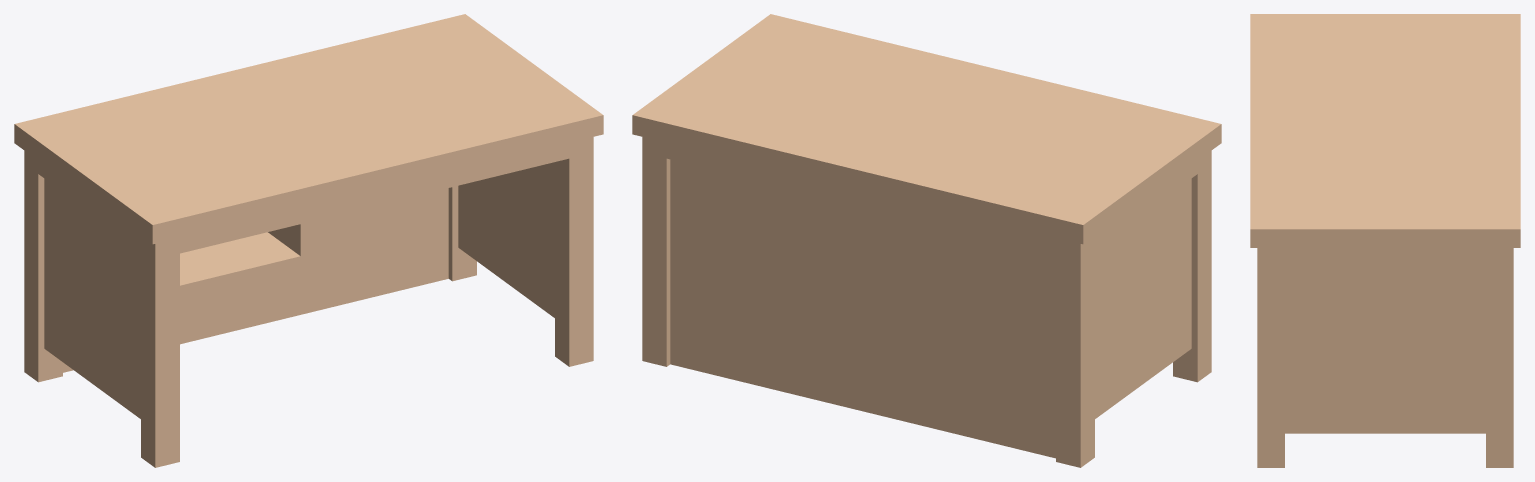
The model's file is desk.glb.
The picture shows the model from 3 angles, left to right: view 1: azimuth 30°, elevation 25°; view 2: azimuth 150°, elevation 25°; view 3: azimuth 270°, elevation 25°; orthographic projection. The views are drawn at different scales.
Visible parts, largest first — view 1: desk; view 2: desk; view 3: desk.
Boxes of the visible parts, x1,y1,x2,y2 form: desk: [14, 14, 603, 467]; desk: [632, 14, 1221, 467]; desk: [1250, 14, 1520, 467].
Size of the model in its own units: 2.13 by 1.11 by 1.13.
